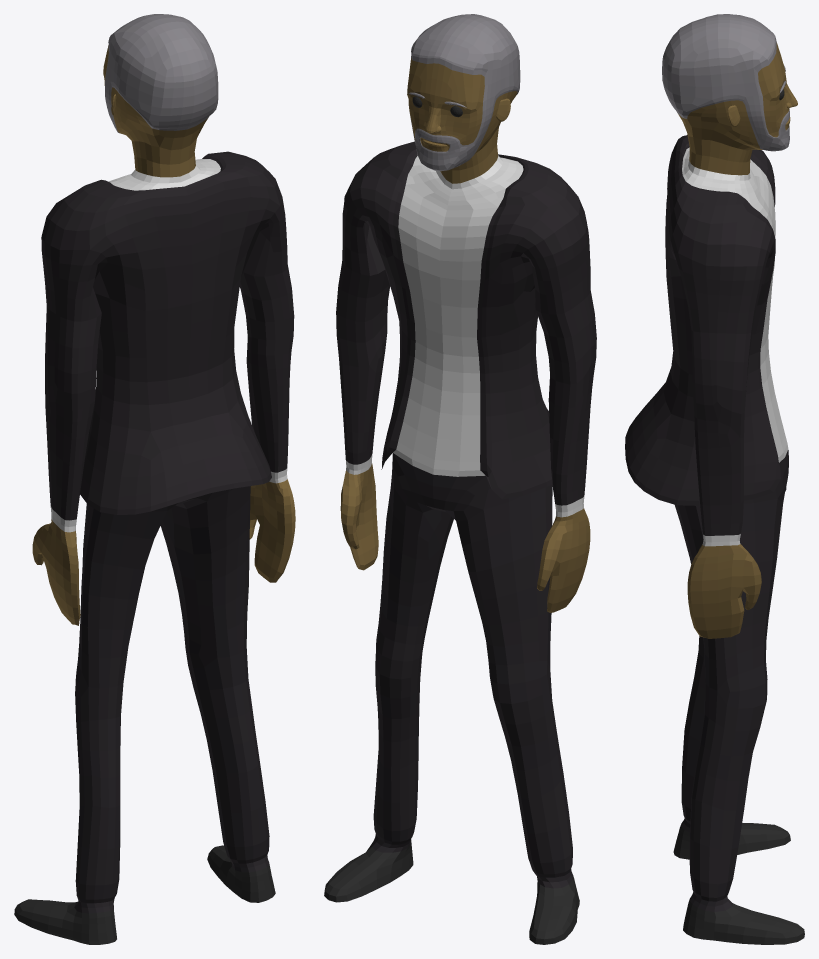
Rendered from Smooth_Male_Suit.glb.
3 views of the same model, side by side, from view 1: azimuth 30°, elevation 25°; view 2: azimuth 150°, elevation 25°; view 3: azimuth 270°, elevation 25° (orthographic).
Visible parts, largest first — view 1: Smooth_Male_Suit; view 2: Smooth_Male_Suit; view 3: Smooth_Male_Suit.
Boxes of the visible parts, x1=… form: Smooth_Male_Suit: x1=14, y1=14, x2=295, y2=944; Smooth_Male_Suit: x1=324, y1=14, x2=596, y2=944; Smooth_Male_Suit: x1=625, y1=14, x2=804, y2=944.
Bounding box in the file's own units: 1.4 × 4.82 × 0.9017.
